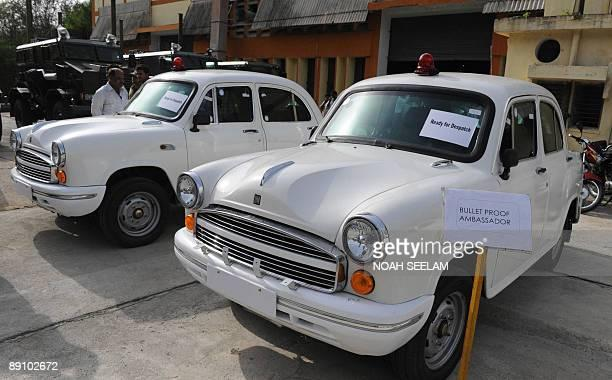Emergency-Vehicles: (186, 38, 587, 357)
